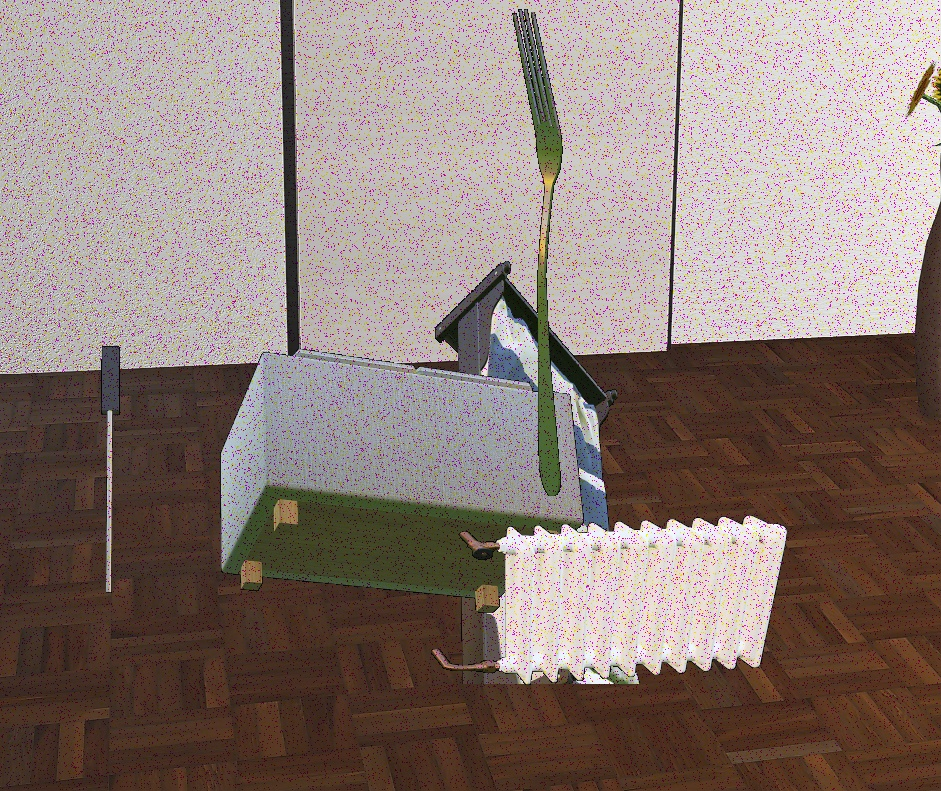estufa: (430, 515, 788, 685)
semaforo: (101, 346, 120, 593)
sofa: (220, 348, 584, 614)
tenedor: (512, 8, 563, 497)
